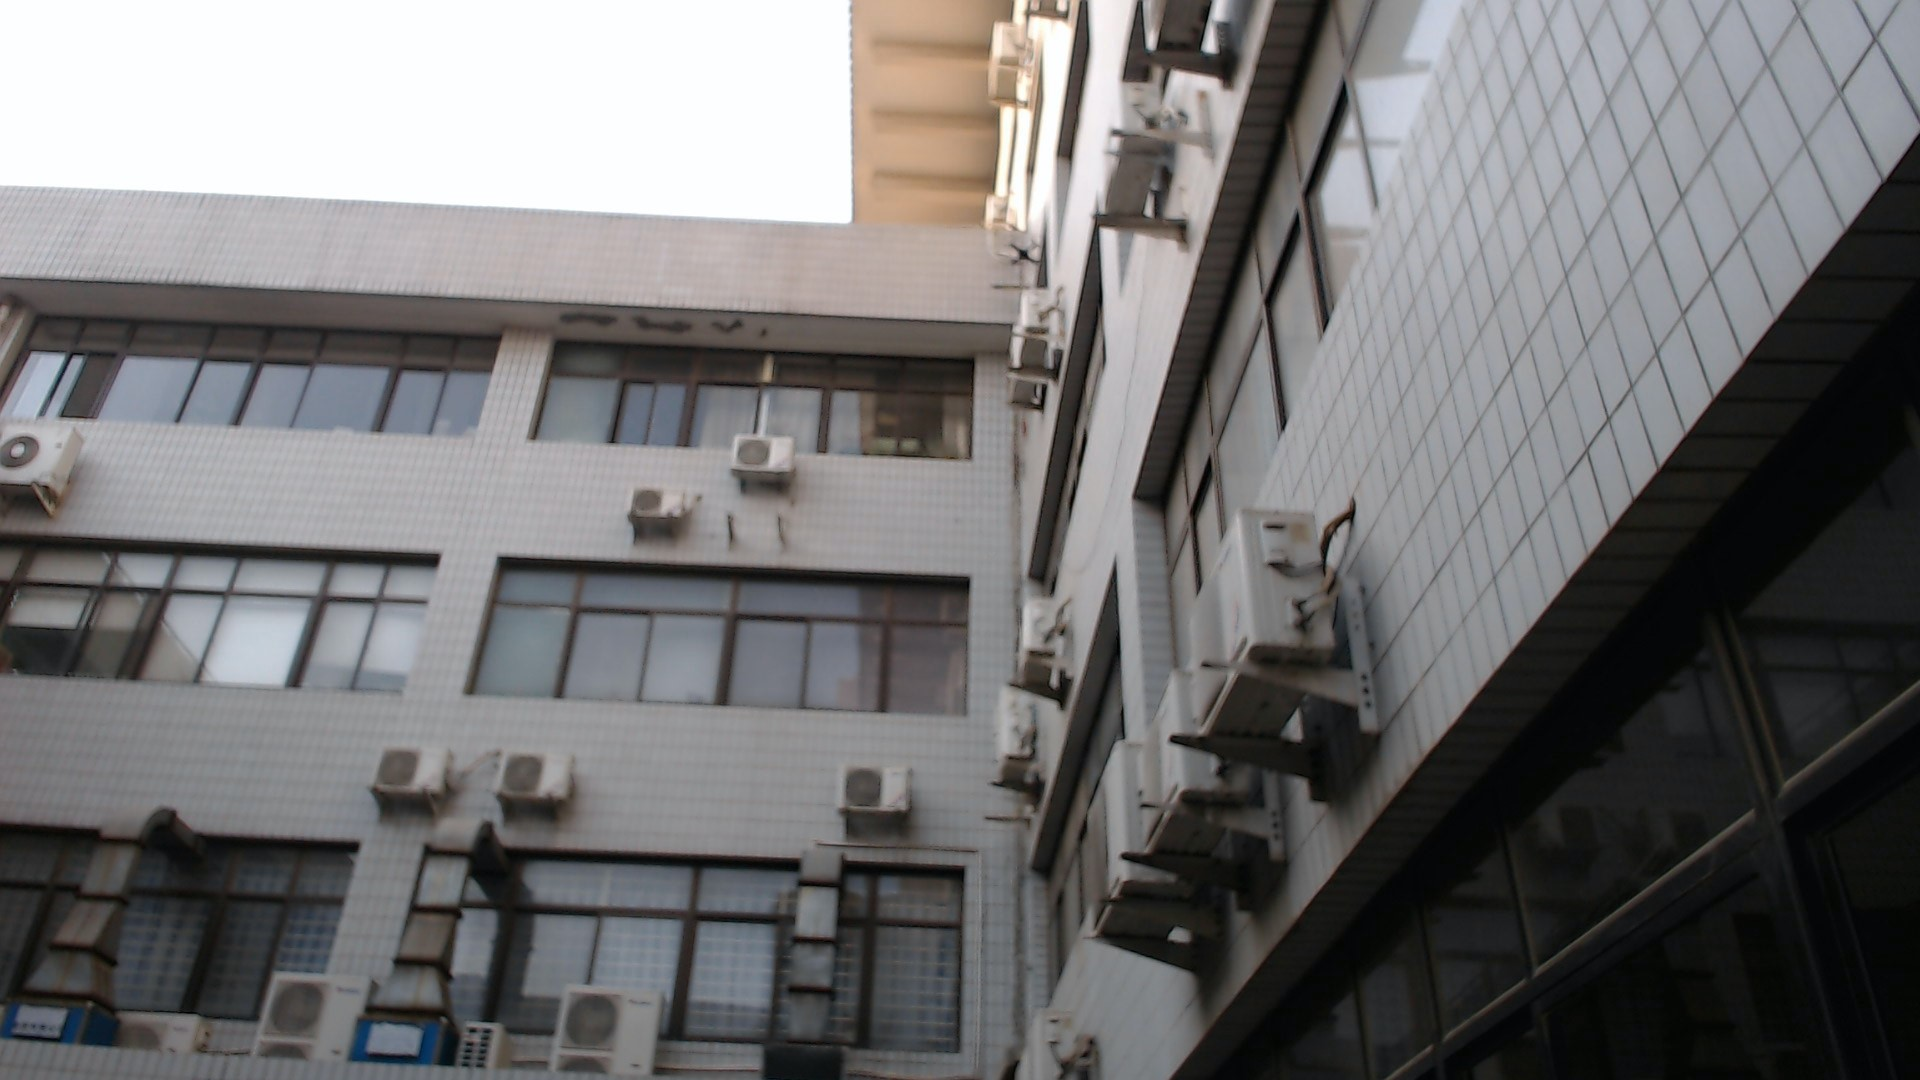drone: (988, 229, 1058, 277)
